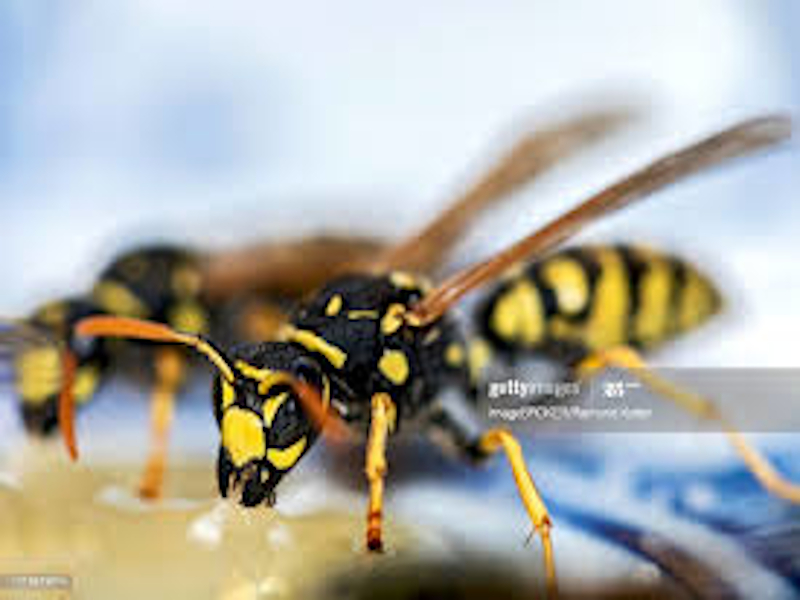chax: (82, 105, 800, 562)
